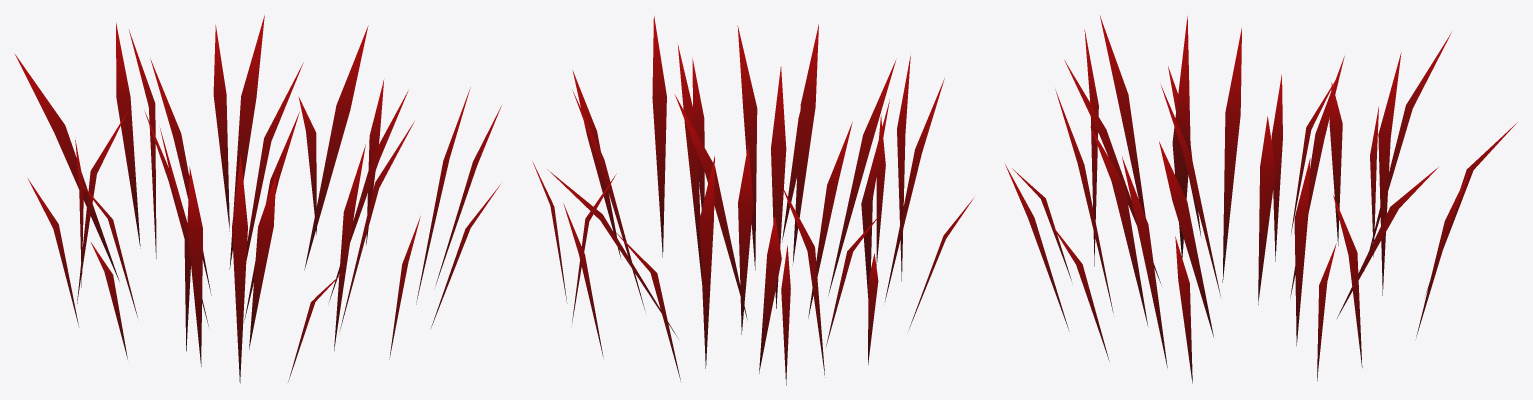
File: Grass_LOD2.fbx
The picture shows the model from 3 angles, left to right: view 1: azimuth 30°, elevation 25°; view 2: azimuth 150°, elevation 25°; view 3: azimuth 270°, elevation 25°; orthographic projection. The views are drawn at different scales.
Visible parts, largest first — view 1: Grass; view 2: Grass; view 3: Grass.
Part boxes in pixels (x1,y1,x2,y2): Grass: [14, 15, 501, 383]; Grass: [532, 16, 974, 385]; Grass: [1005, 15, 1517, 383].
Bounding box in the file's own units: 254 × 138 × 272.
